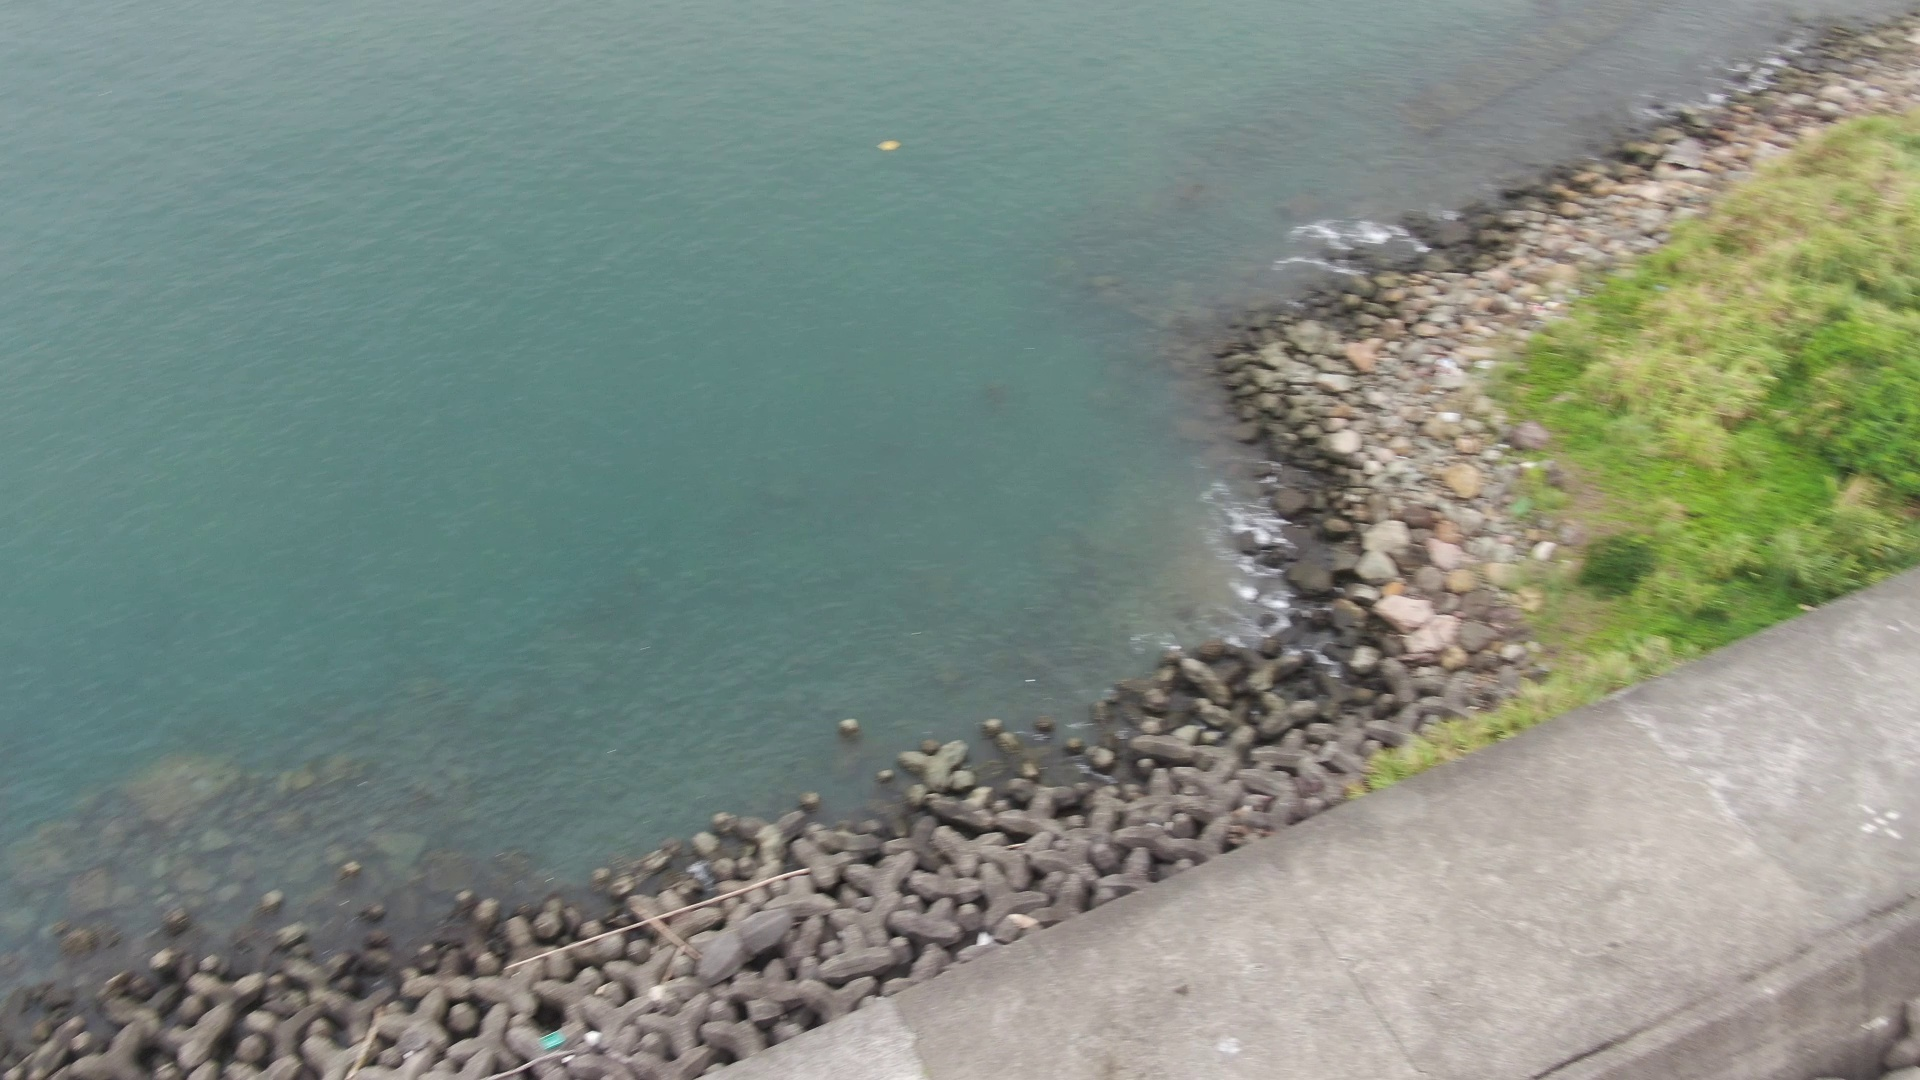garbage: (529, 1019, 578, 1063), (870, 129, 923, 167)
